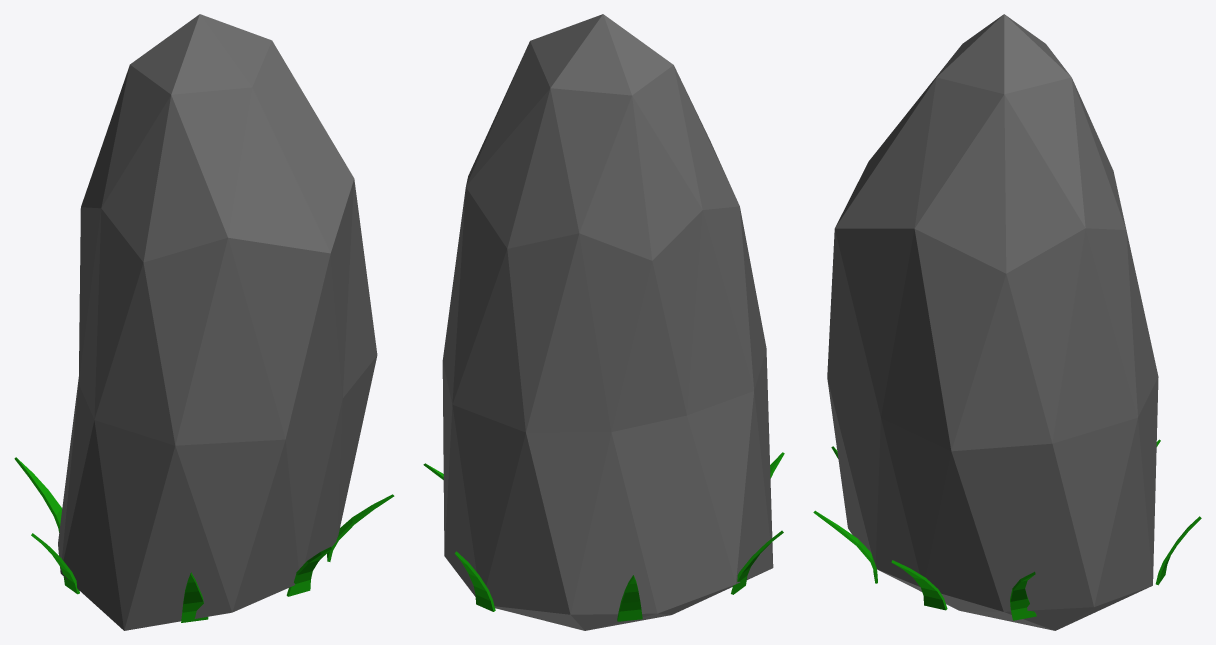
File: monolit.glb
3 renders of one model, left to right at view 1: azimuth 30°, elevation 25°; view 2: azimuth 150°, elevation 25°; view 3: azimuth 270°, elevation 25°, orthographic.
Parts seen in each view (by area): view 1: Icosphere, Cube; view 2: Icosphere, Cube; view 3: Icosphere, Cube.
Part boxes in pixels (box(x1,y1,x2,y2)): Icosphere: box(58, 14, 377, 630); Cube: box(14, 457, 394, 622); Icosphere: box(442, 14, 773, 630); Cube: box(423, 452, 784, 621); Icosphere: box(827, 14, 1158, 630); Cube: box(813, 439, 1201, 620).
Bounding box in the file's own units: 3.15 × 5.16 × 3.11.
